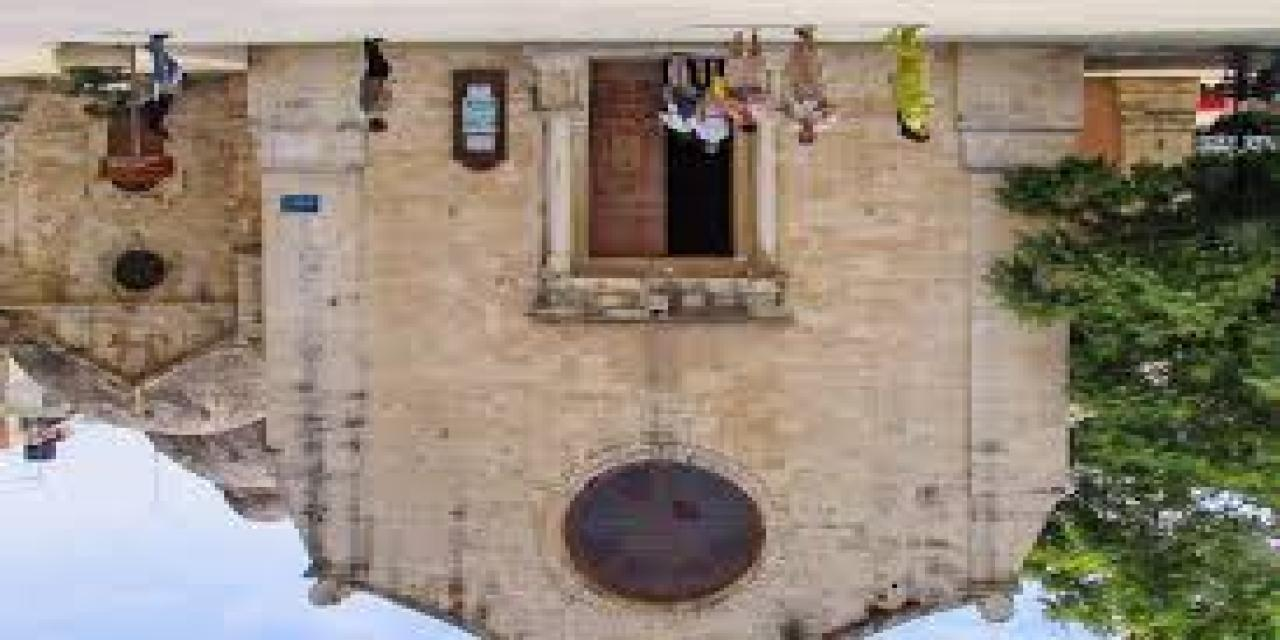Agia Aikaterini: (11, 39, 1146, 632)
